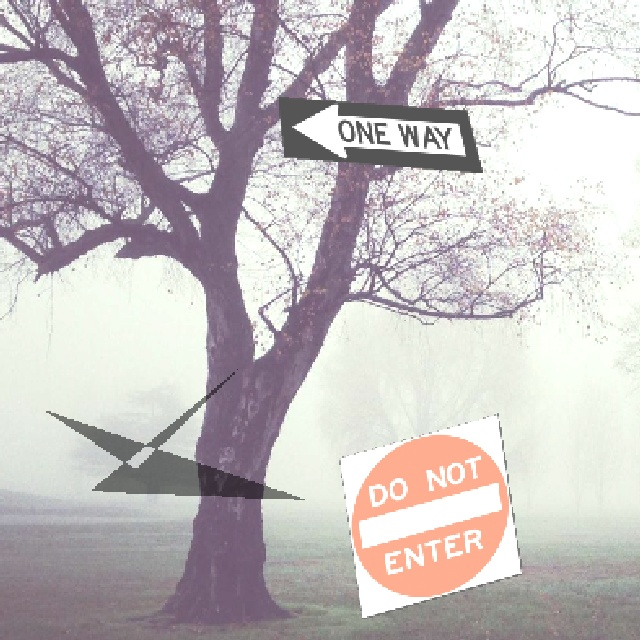DO_NOT_ENTER: (337, 412, 521, 618)
ONE_WAY_ left: (276, 95, 482, 172)
